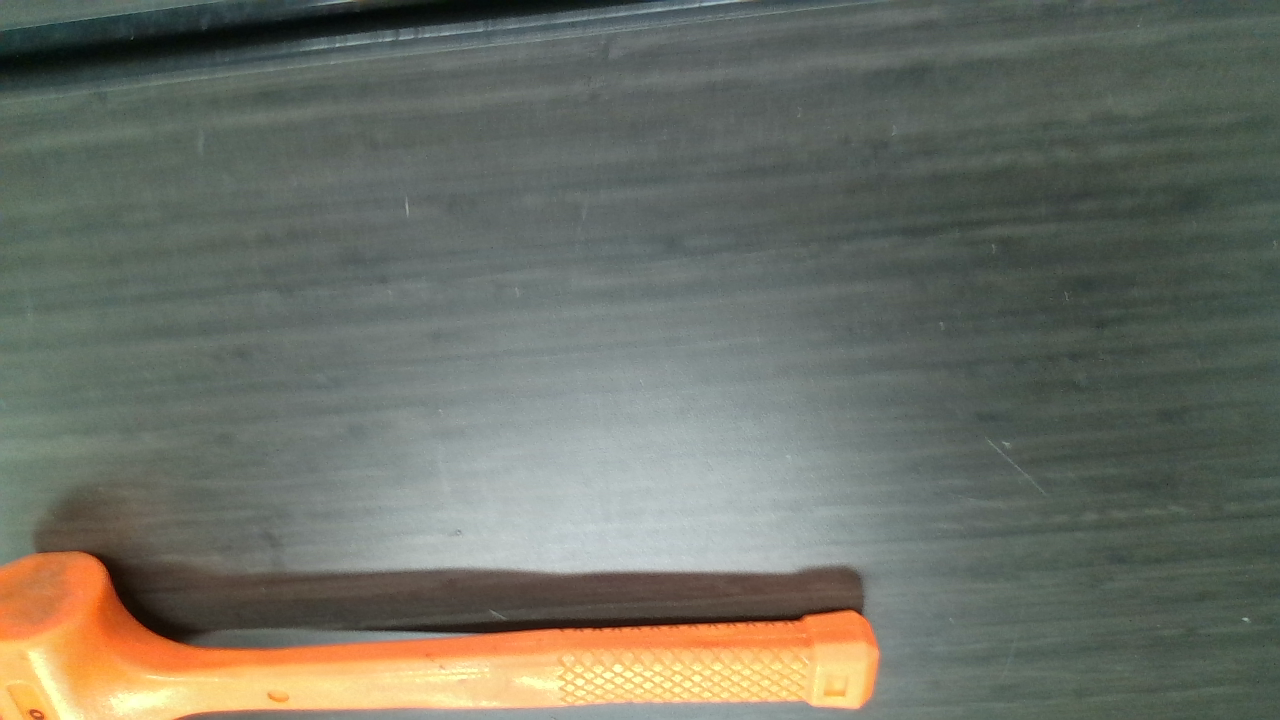Orange Hammer: (7, 555, 877, 716)
